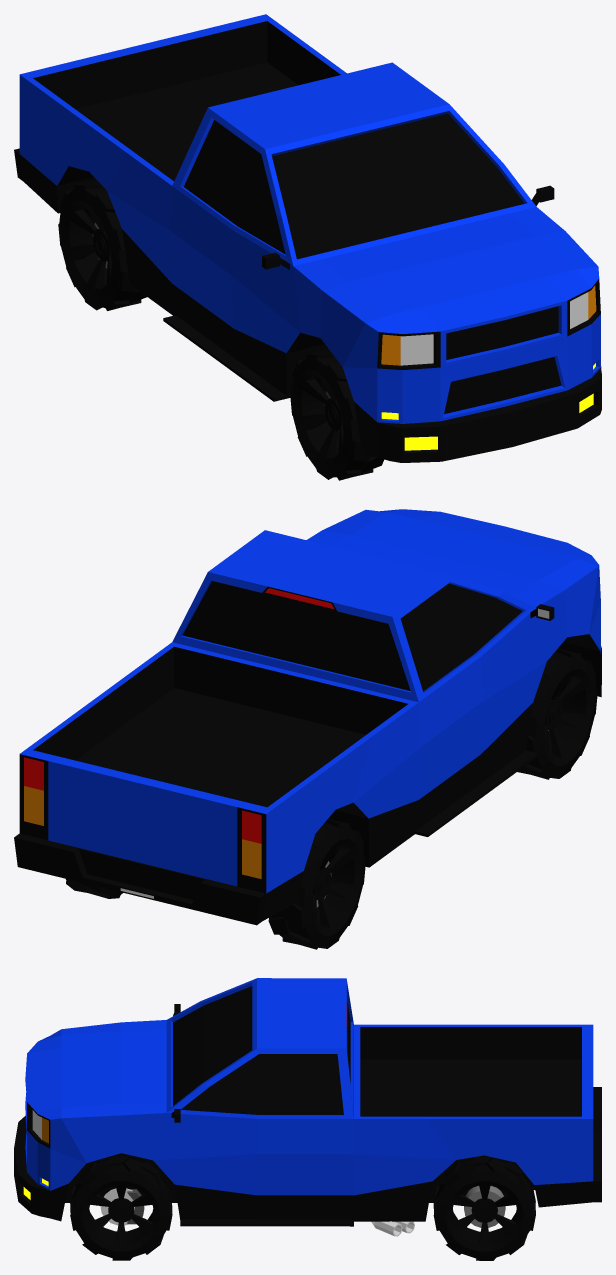
The model's file is low poly car truck.fbx.
3 renders of one model, top to bottom at view 1: azimuth 30°, elevation 25°; view 2: azimuth 150°, elevation 25°; view 3: azimuth 270°, elevation 25°, orthographic. The views are drawn at different scales.
Visible parts, largest first — view 1: Truck.Body, Truck.Wheel.Ft.R, Truck.Wheel.Bk.R; view 2: Truck.Body, Truck.Wheel.Bk.R, Truck.Wheel.Ft.R; view 3: Truck.Body, Truck.Wheel.Bk.L, Truck.Wheel.Ft.L.
Boxes of the visible parts, left/top/right/bottom form: Truck.Body: left=14, top=14, right=601, bottom=462; Truck.Wheel.Ft.R: left=290, top=349, right=384, bottom=480; Truck.Wheel.Bk.R: left=58, top=180, right=146, bottom=310; Truck.Body: left=14, top=509, right=601, bottom=925; Truck.Wheel.Bk.R: left=268, top=818, right=365, bottom=949; Truck.Wheel.Ft.R: left=517, top=648, right=597, bottom=779; Truck.Body: left=14, top=978, right=601, bottom=1236; Truck.Wheel.Bk.L: left=433, top=1156, right=535, bottom=1260; Truck.Wheel.Ft.L: left=70, top=1156, right=172, bottom=1260.
Bounding box in the file's own units: 144 × 123 × 324.
